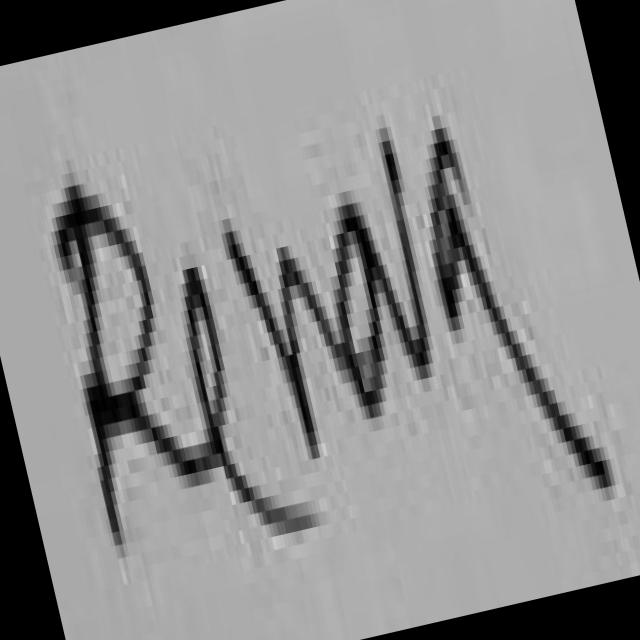R: (59, 185, 207, 539)
a: (429, 127, 614, 488)
e: (186, 267, 315, 535)
n: (227, 230, 349, 452)
o: (338, 203, 386, 417)
v: (373, 127, 432, 378)
